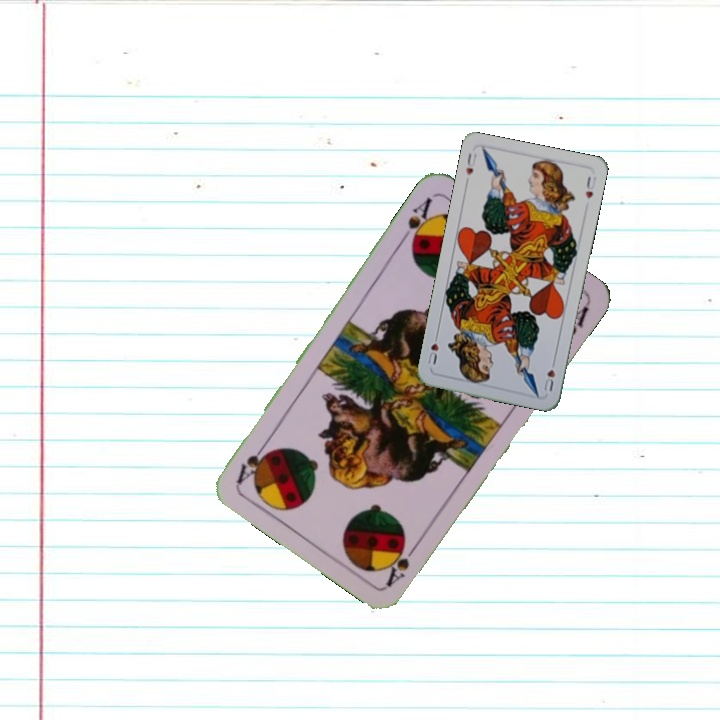HU: (540, 355, 558, 394), (462, 149, 479, 178)
SA: (397, 193, 437, 250), (381, 537, 422, 589)
